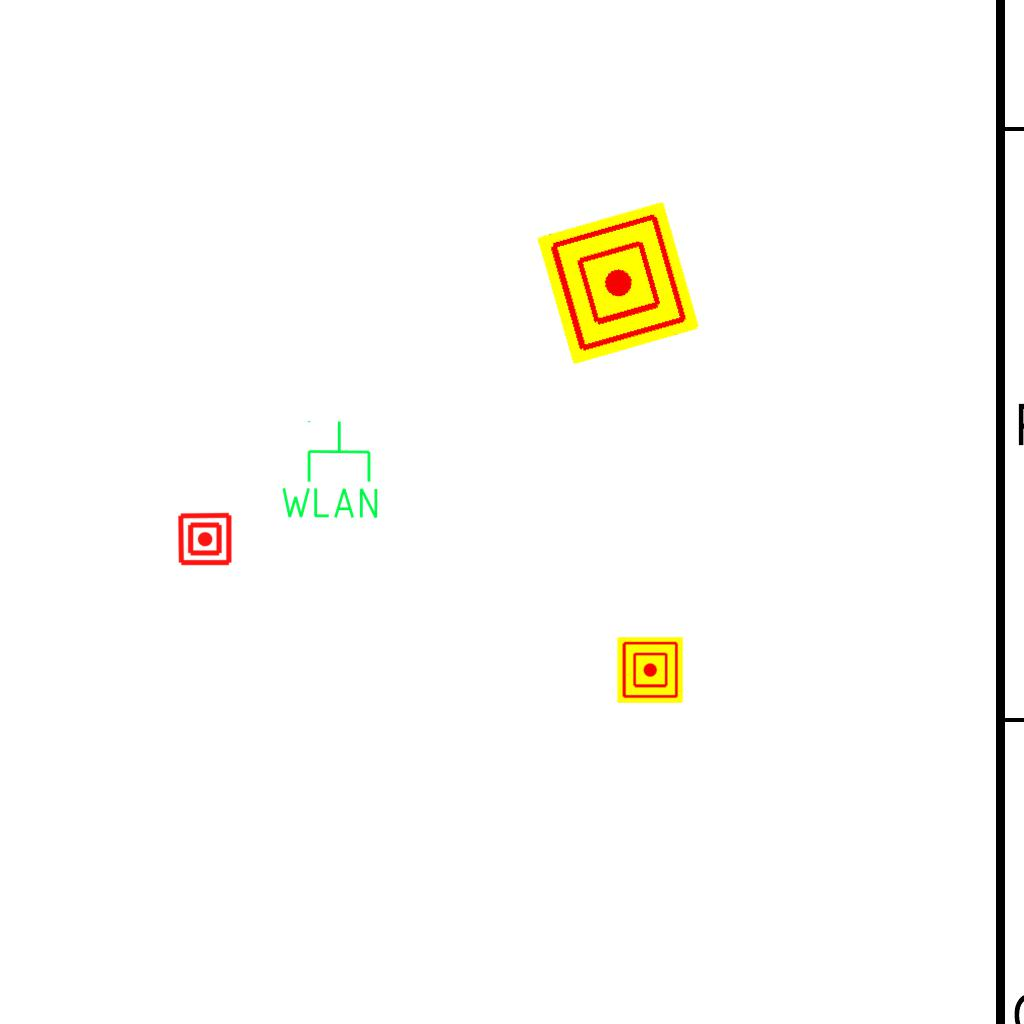NAM-Nichtautomatischer_Melder: (536, 201, 700, 365), (617, 637, 683, 703), (177, 511, 233, 567)
WLAN: (277, 418, 382, 522)
